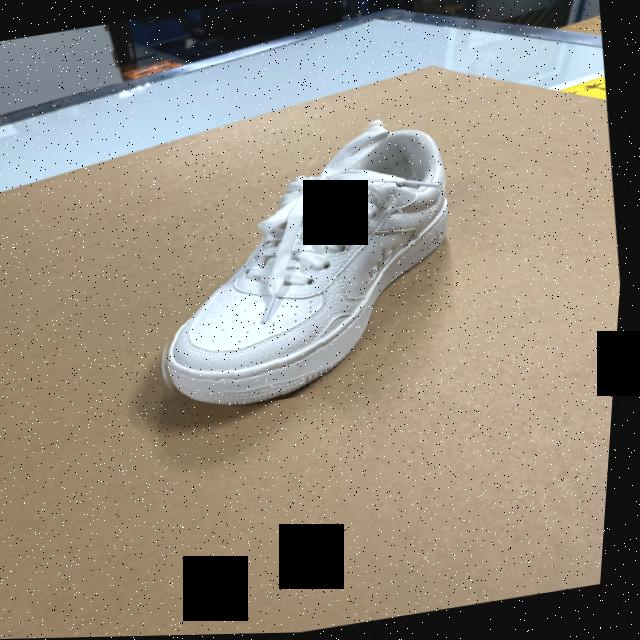shoe: (131, 110, 479, 420)
